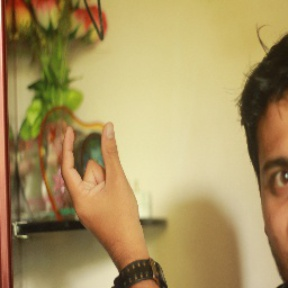U: (54, 116, 147, 235)
